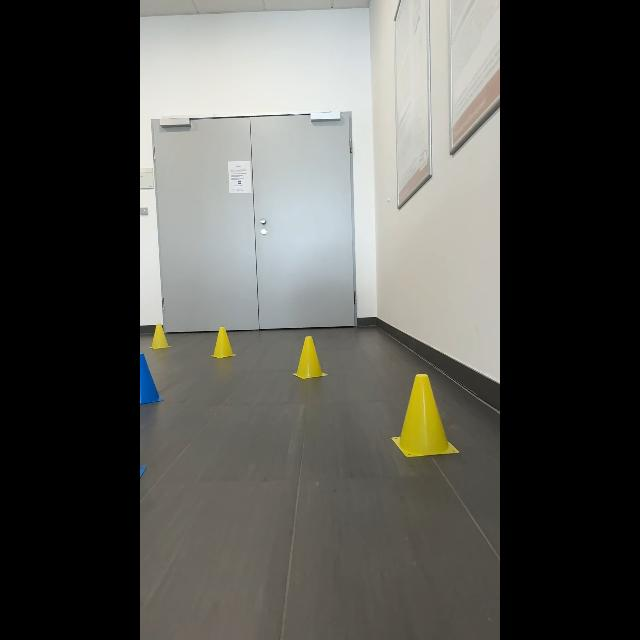yellow_cone: (391, 370, 462, 462), (289, 328, 329, 388), (208, 320, 244, 362), (148, 317, 176, 355)
